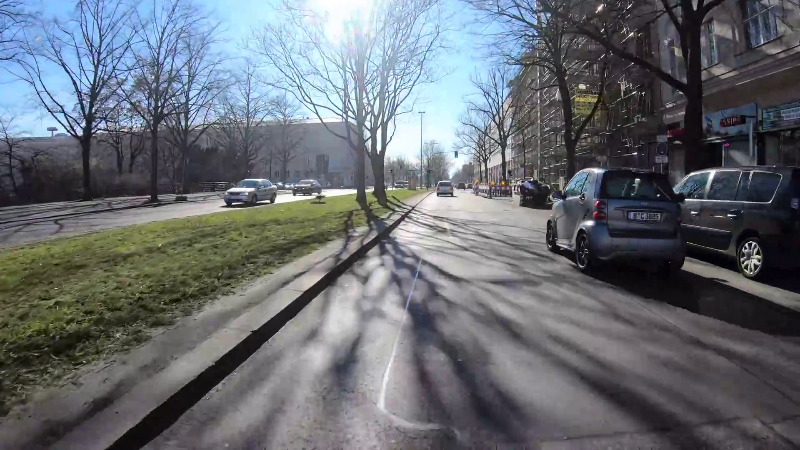Plate: (627, 210, 661, 220)
